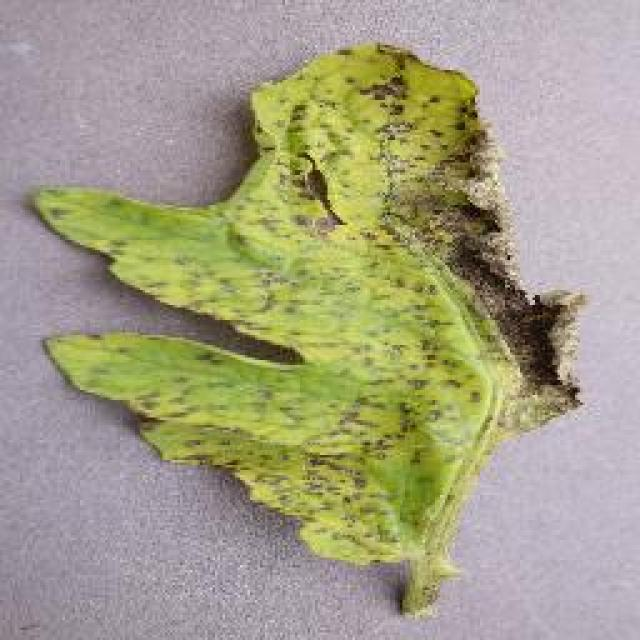Tomato___Septoria_leaf_spot: (35, 42, 580, 617)
